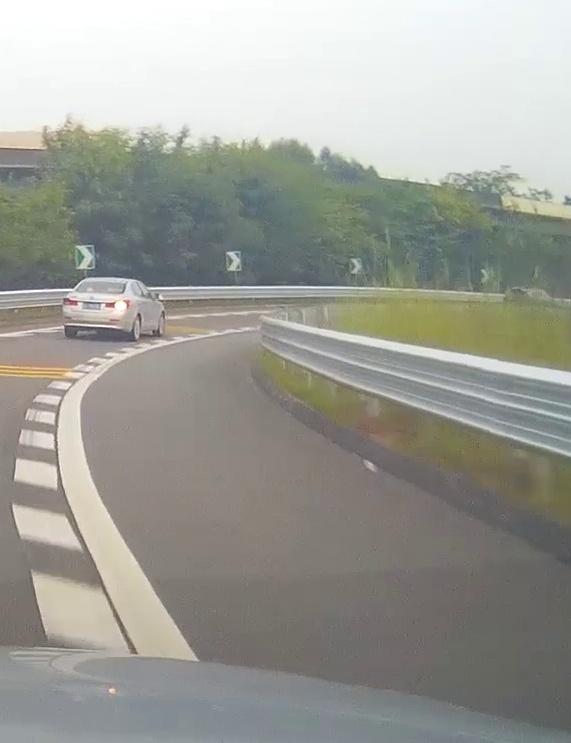L_light: (63, 298, 78, 306)
R_light: (106, 300, 130, 308)
T_light: (98, 281, 108, 284)
day-right: (62, 278, 131, 341)
